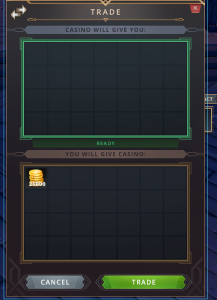gold: (26, 167, 47, 188)
